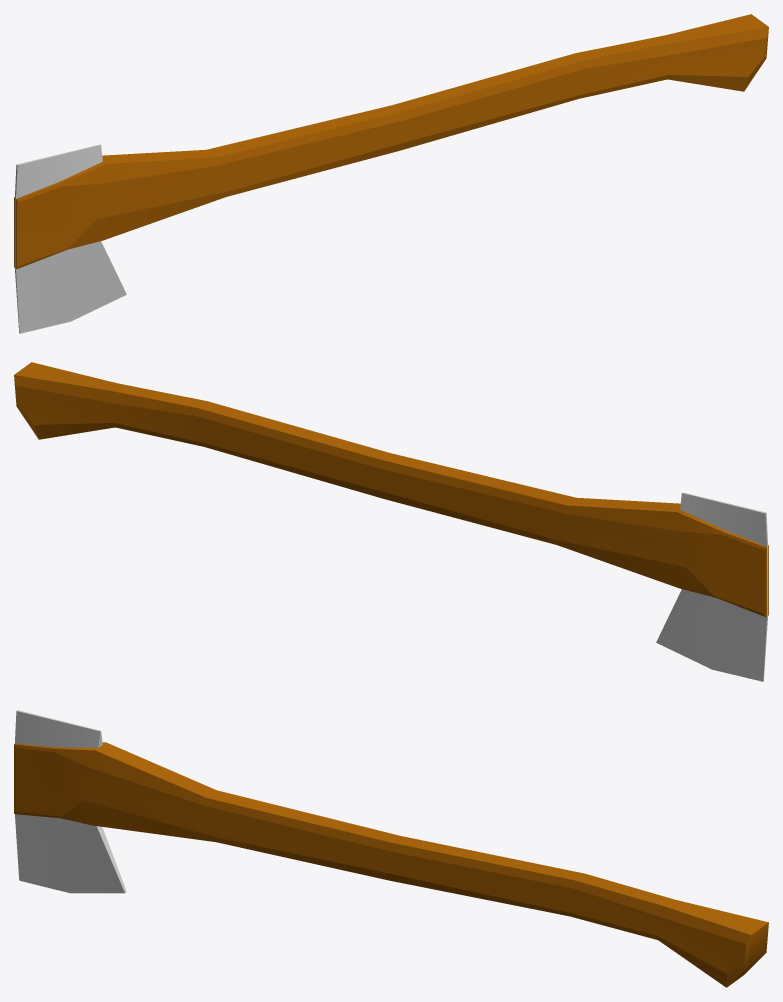
The model's file is tree_axe.fbx.
3 views of the same model, one above another, from view 1: azimuth 30°, elevation 25°; view 2: azimuth 150°, elevation 25°; view 3: azimuth 330°, elevation 25° (orthographic).
Visible parts, largest first — view 1: pCube1; view 2: pCube1; view 3: pCube1.
Boxes of the visible parts, bbox=[...] form: pCube1: bbox=[14, 14, 768, 333]; pCube1: bbox=[14, 362, 768, 681]; pCube1: bbox=[14, 710, 768, 987].
Bounding box in the file's own units: 17.89 × 3.89 × 0.8751.
